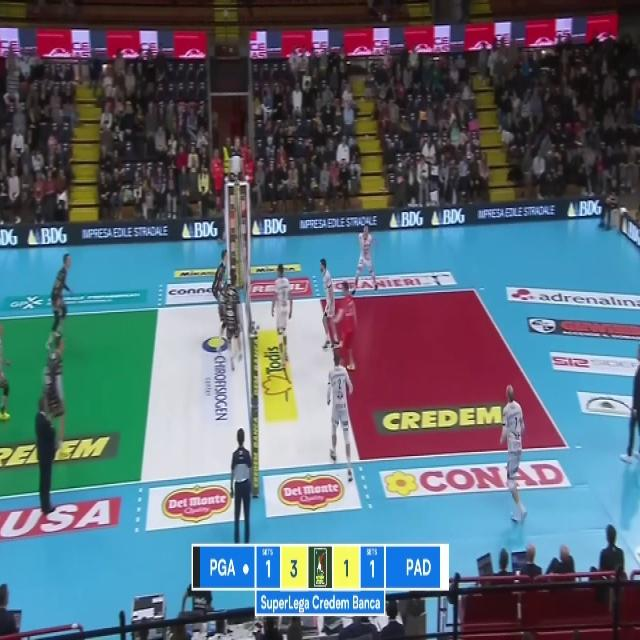volleyball court: (1, 290, 571, 498)
